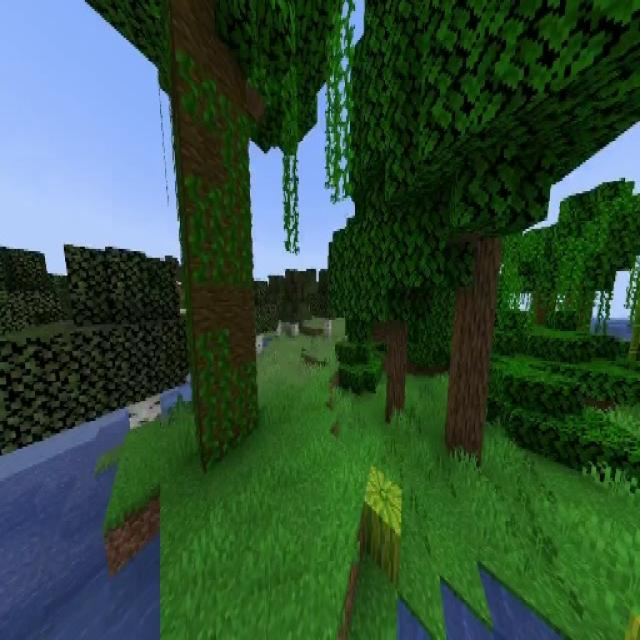birch: (54, 238, 188, 443), (239, 279, 279, 357), (311, 272, 347, 339), (280, 284, 312, 338)
birch_log: (127, 391, 162, 432), (324, 319, 331, 337), (256, 334, 262, 355), (292, 322, 300, 337)
jungle: (83, 0, 342, 471)
jungle_log: (173, 56, 260, 464)
oak: (326, 195, 440, 422)
oak_log: (448, 234, 498, 458), (384, 322, 408, 419)
